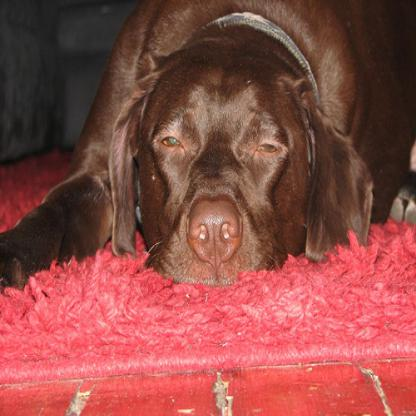dog: (0, 0, 415, 291)
